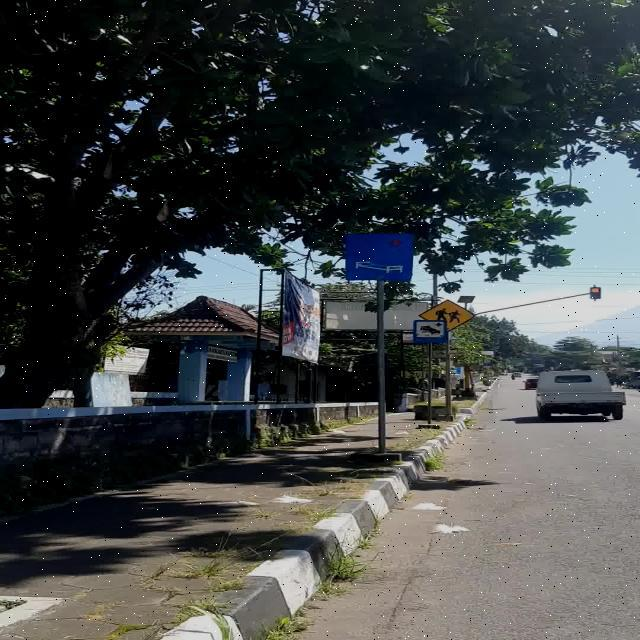Rumah Sakit: (344, 233, 412, 280)
